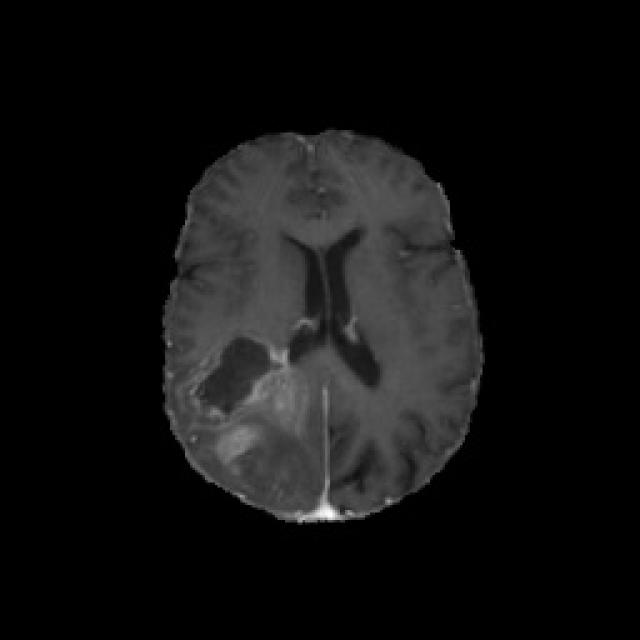negative: (178, 331, 284, 424)
